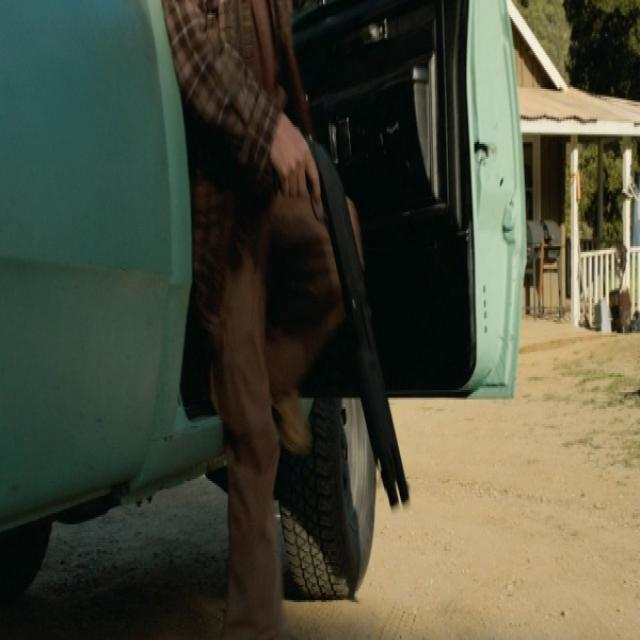rifle: (301, 131, 418, 517)
